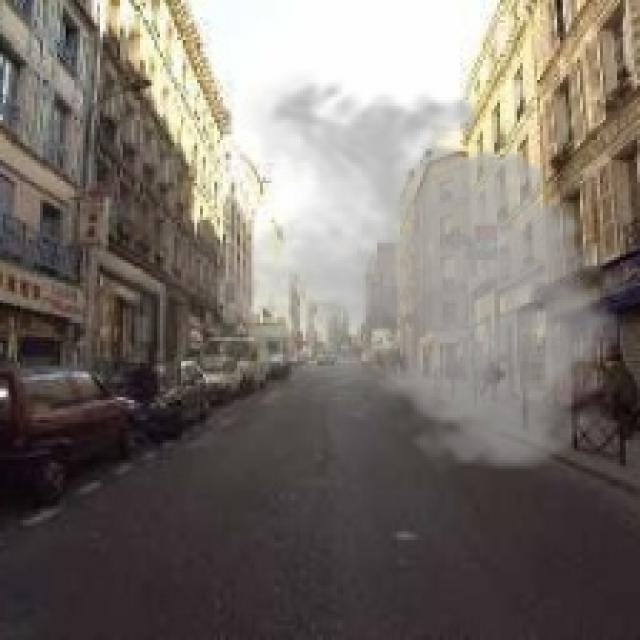smoke: (220, 69, 637, 480)
